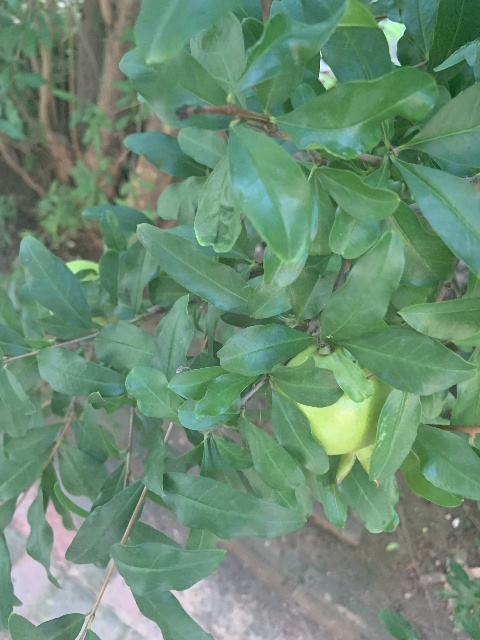mid-growth: (272, 334, 395, 489)
